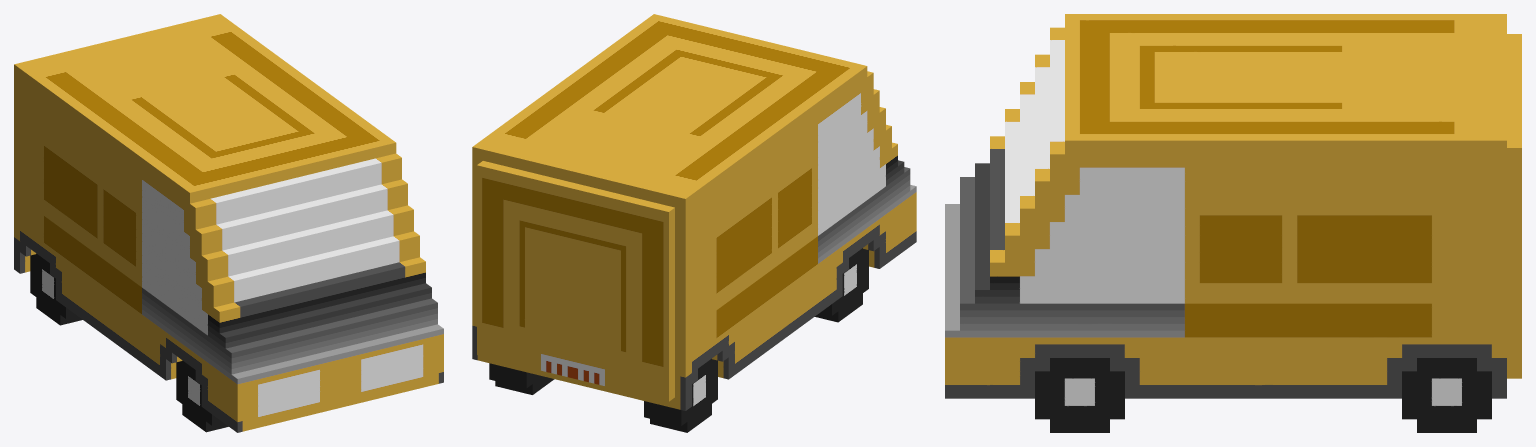
The model's file is Character_10.fbx.
3 renders of one model, left to right at view 1: azimuth 30°, elevation 25°; view 2: azimuth 150°, elevation 25°; view 3: azimuth 270°, elevation 25°, orthographic. The views are drawn at different scales.
Parts seen in each view (by area): view 1: Character_10; view 2: Character_10; view 3: Character_10.
Part boxes in pixels (x1,y1,x2,y2): Character_10: [14, 14, 443, 432]; Character_10: [472, 14, 916, 432]; Character_10: [945, 14, 1521, 432].
Bounding box in the file's own units: 40 × 44 × 77.
